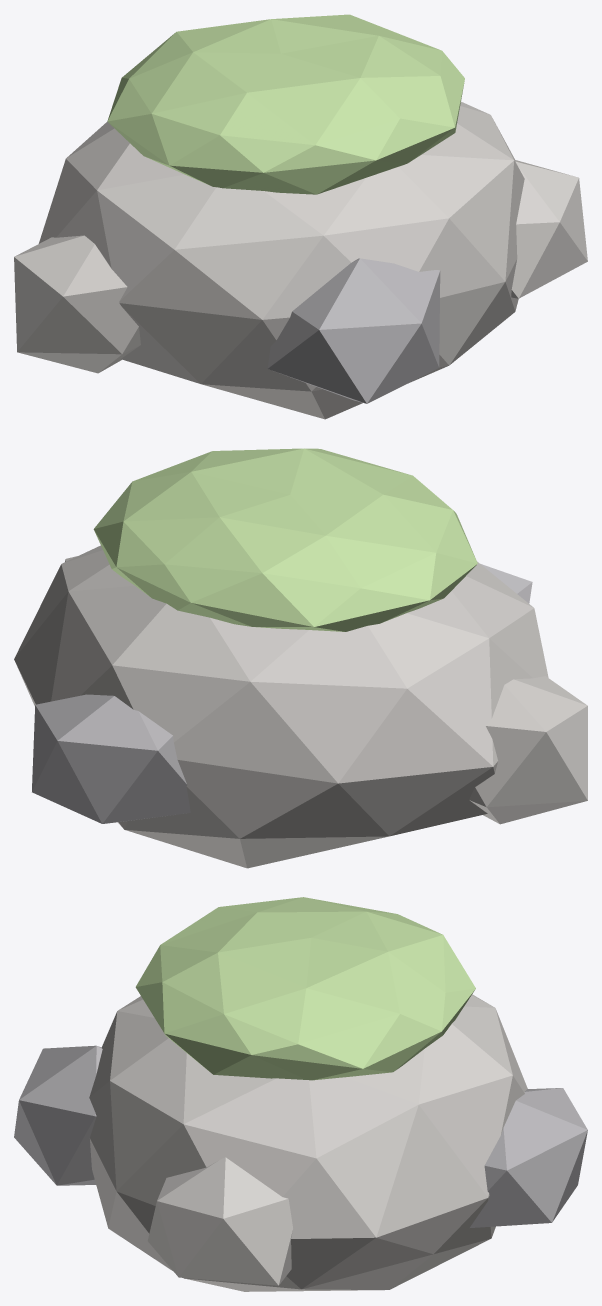
The model's file is IsletA.fbx.
3 views of the same model, one above another, from view 1: azimuth 30°, elevation 25°; view 2: azimuth 150°, elevation 25°; view 3: azimuth 270°, elevation 25° (orthographic). The views are drawn at different scales.
Parts seen in each view (by area): view 1: IsletA; view 2: IsletA; view 3: IsletA.
Boxes of the visible parts, x1,y1,x2,y2 form: IsletA: (14, 14, 587, 419); IsletA: (14, 448, 587, 868); IsletA: (14, 897, 587, 1291).
Bounding box in the file's own units: 10.25 × 6.12 × 9.58.
